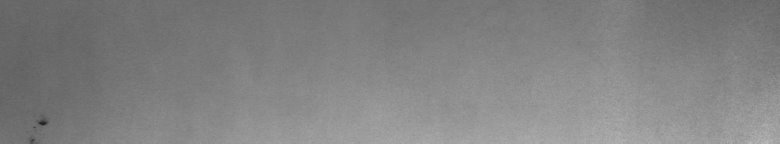fi: (33, 112, 52, 133)
